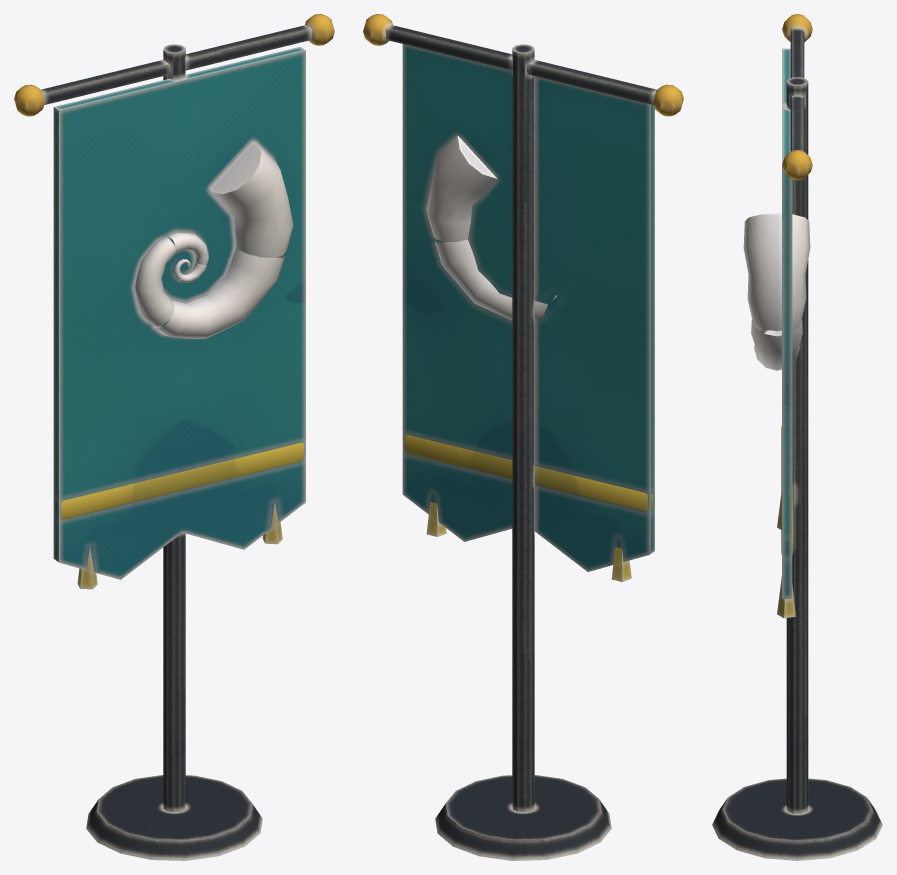
The model's file is banner.glb.
3 views of the same model, side by side, from view 1: azimuth 30°, elevation 25°; view 2: azimuth 150°, elevation 25°; view 3: azimuth 270°, elevation 25° (orthographic). The views are drawn at different scales.
Parts seen in each view (by area): view 1: SM_Banner; view 2: SM_Banner; view 3: SM_Banner.
Boxes of the visible parts, bbox=[...] form: SM_Banner: bbox=[14, 14, 334, 860]; SM_Banner: bbox=[363, 14, 683, 860]; SM_Banner: bbox=[712, 14, 882, 860].
Size of what is drawn, in the model's own units: 1.03 by 2.4 by 0.5.
1 material, 1 textured.
